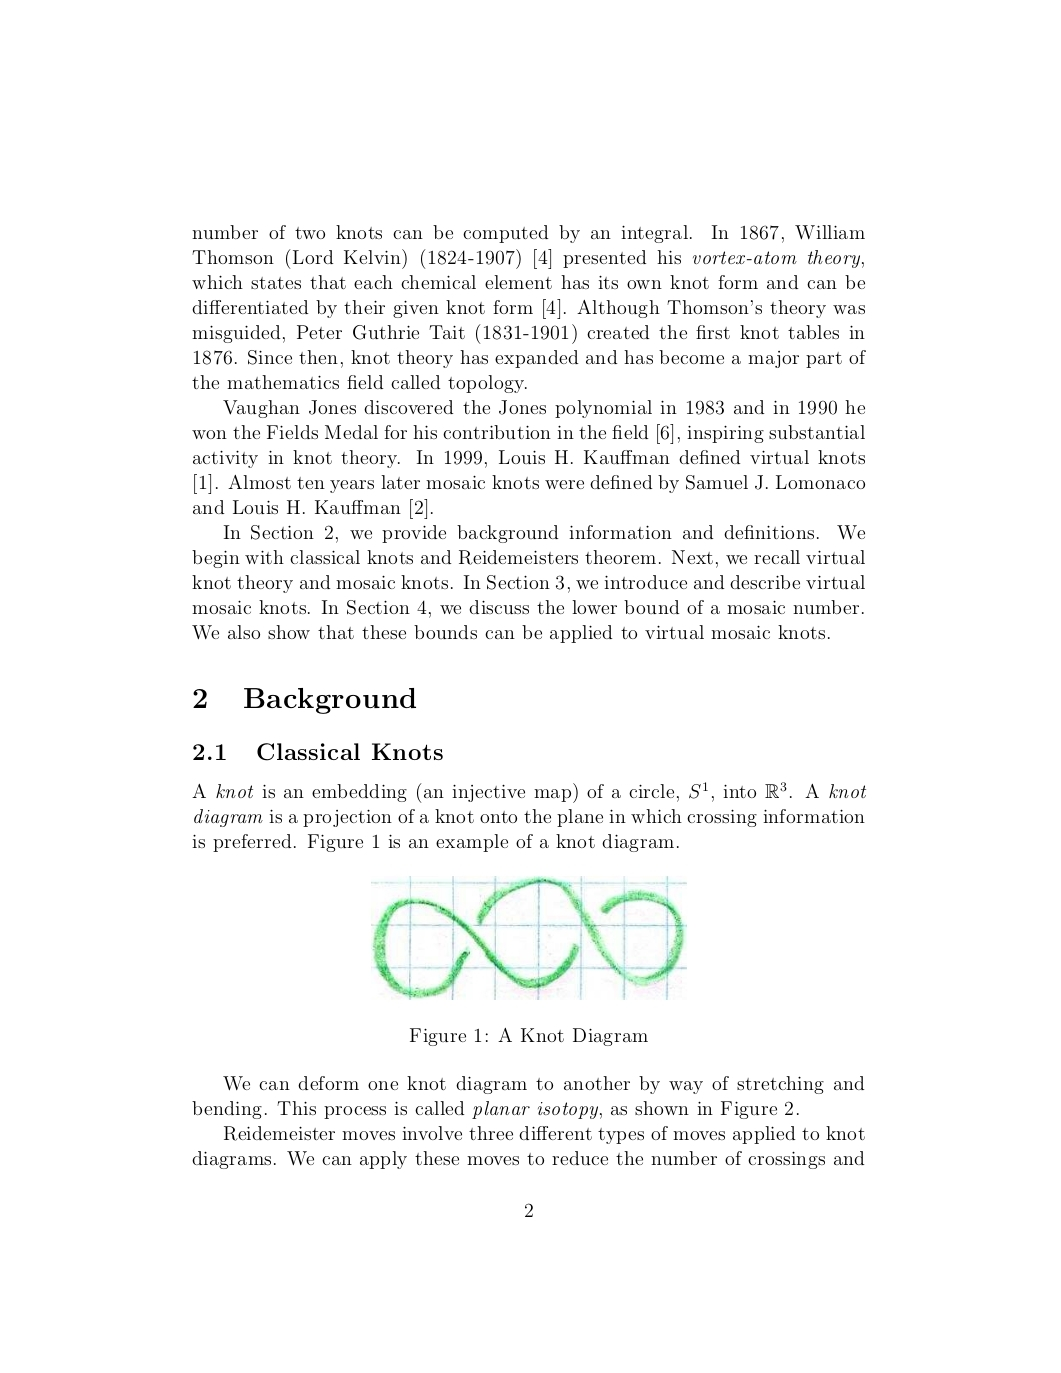figure: (371, 875, 687, 1000)
